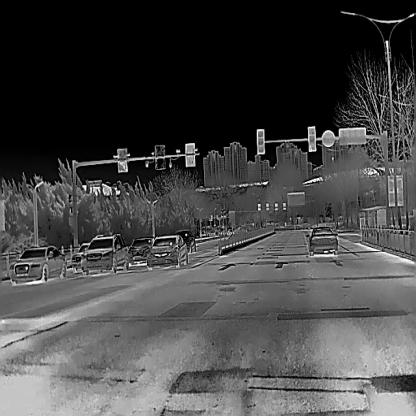car: (8, 244, 67, 284), (80, 232, 129, 274), (143, 234, 189, 268), (306, 223, 338, 254), (125, 236, 156, 264), (70, 241, 90, 273), (174, 228, 196, 251)
